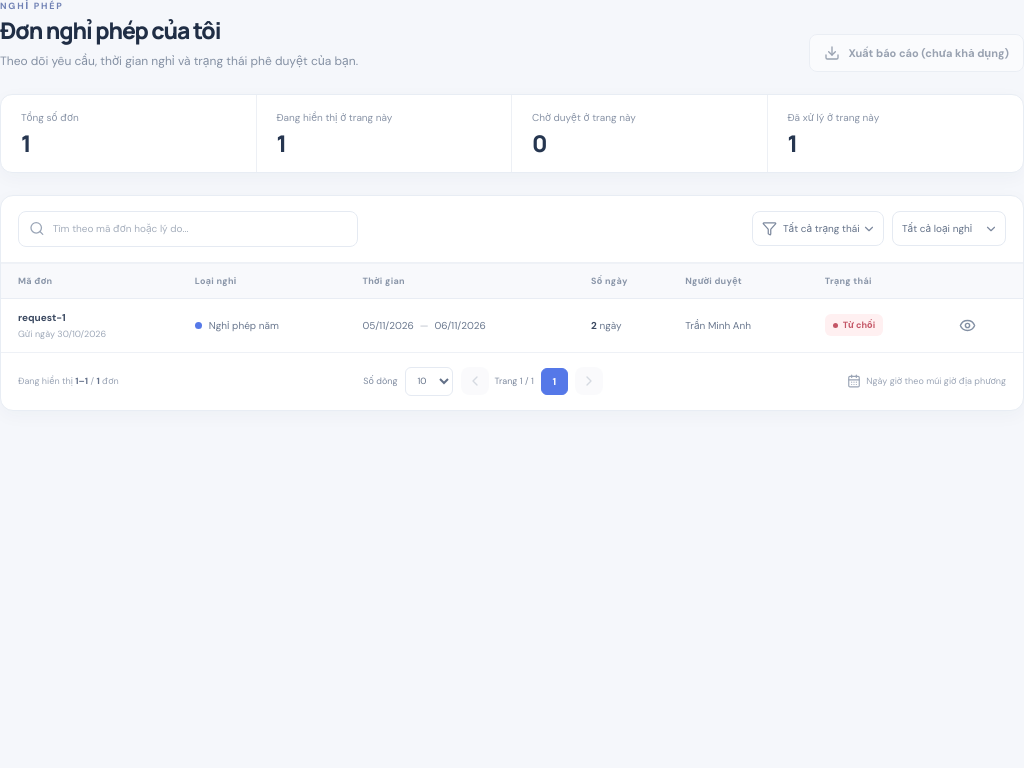
it: LeaveRequestsPage › shows an empty history state when the request has no history records
Click the button named "Xem chi tiết request-1" at (967,325), box [953,311,982,340]
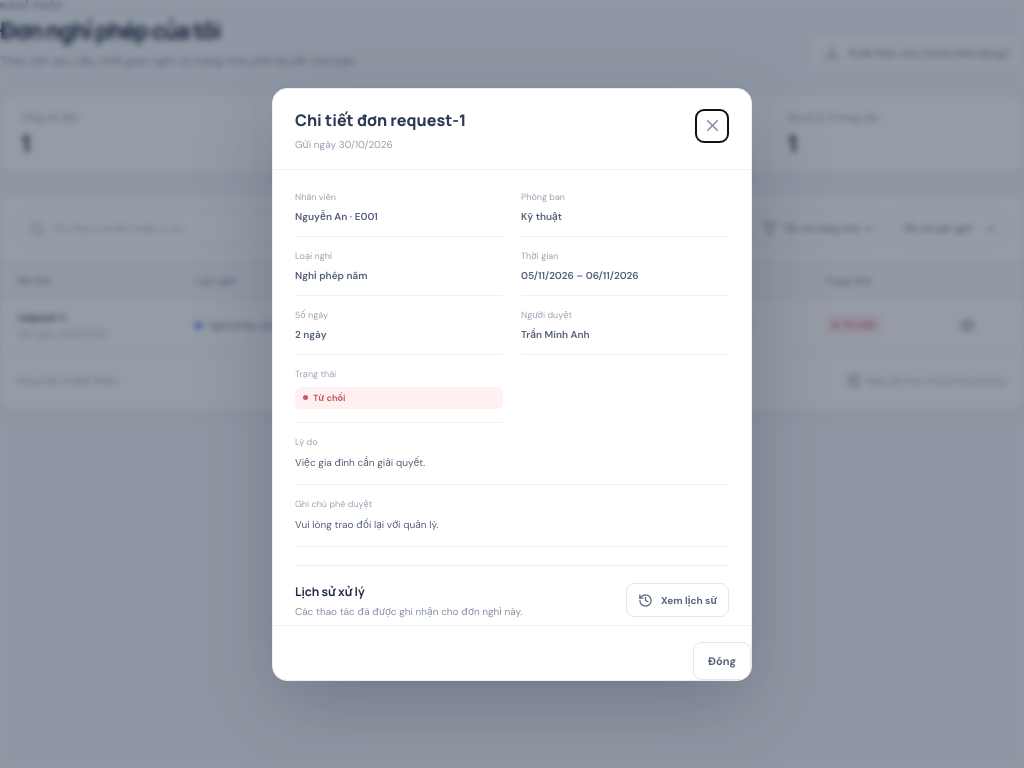
Click the button "Xem lịch sử" at (678,600), box [626,583,729,617]
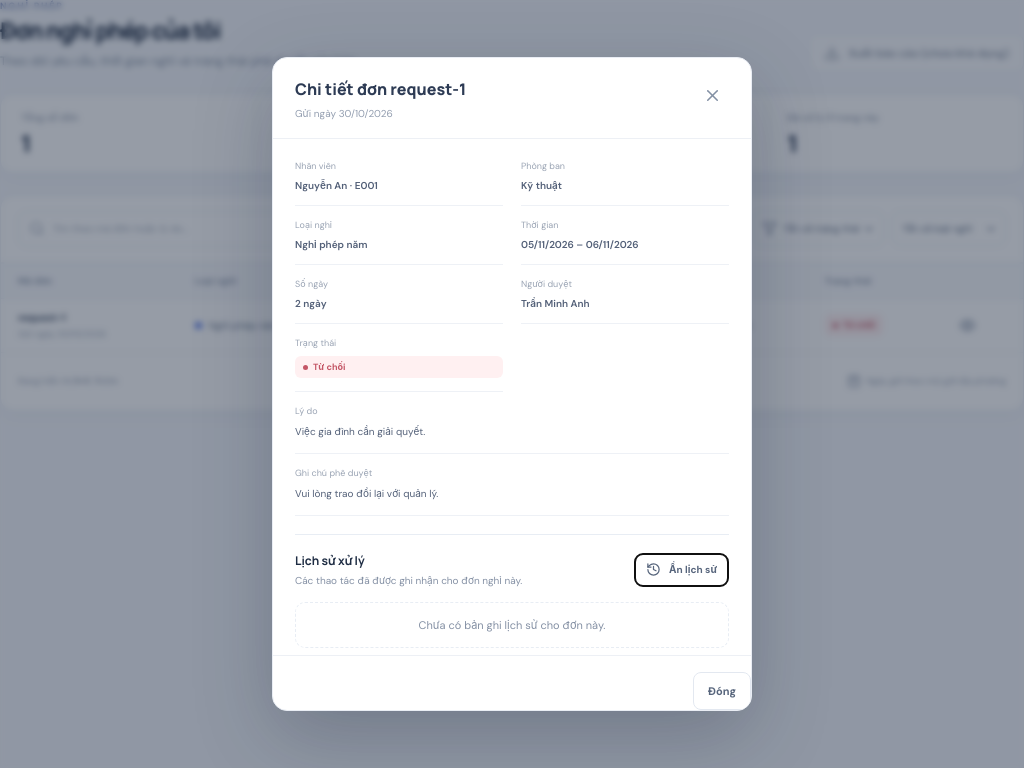
Expected: the text "Chưa có bản ghi lịch sử cho đơn này." is shown, [295,602,729,648]
